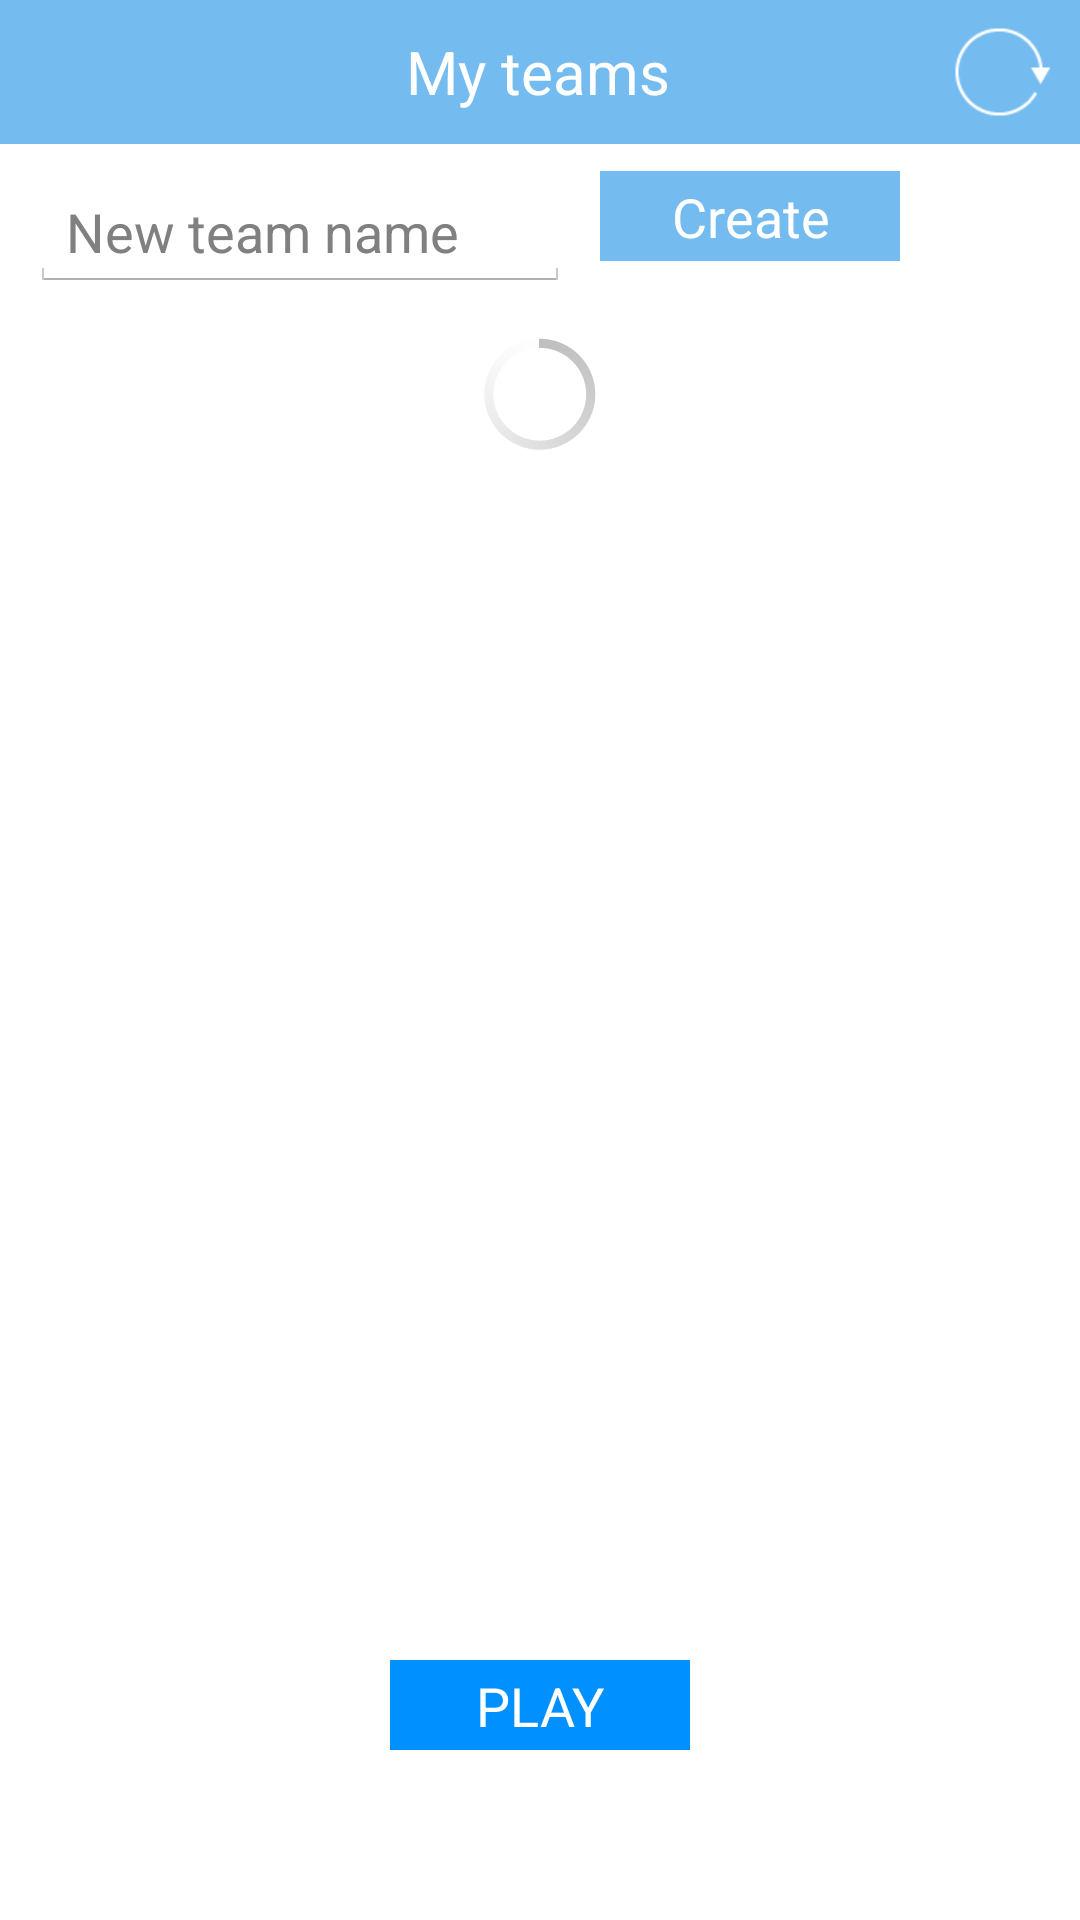

Screen size 1080px x 1920px. Icon name, then its center in pixels as [x,y]:
refresh bt: [1002,72]
